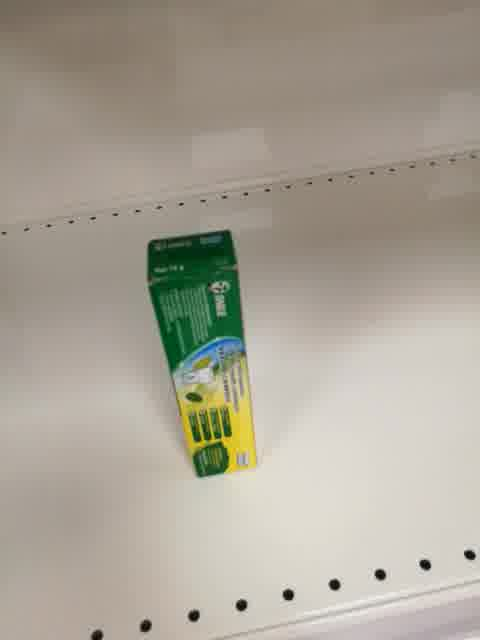toothpaste: (146, 230, 259, 478)
